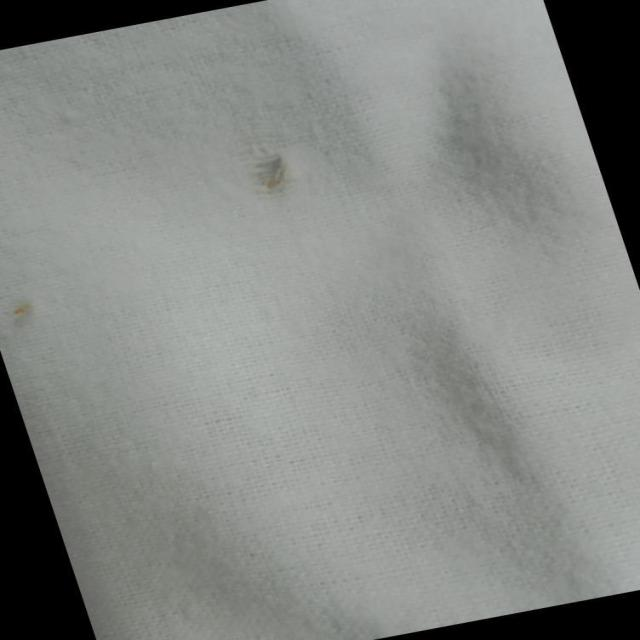cut: (245, 144, 301, 200)
